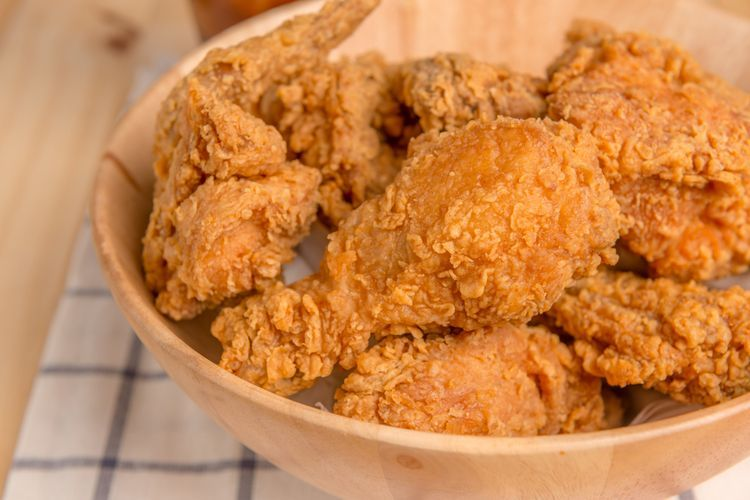Ayam: (249, 123, 616, 402), (118, 1, 391, 282), (562, 10, 749, 286), (590, 277, 750, 416)
